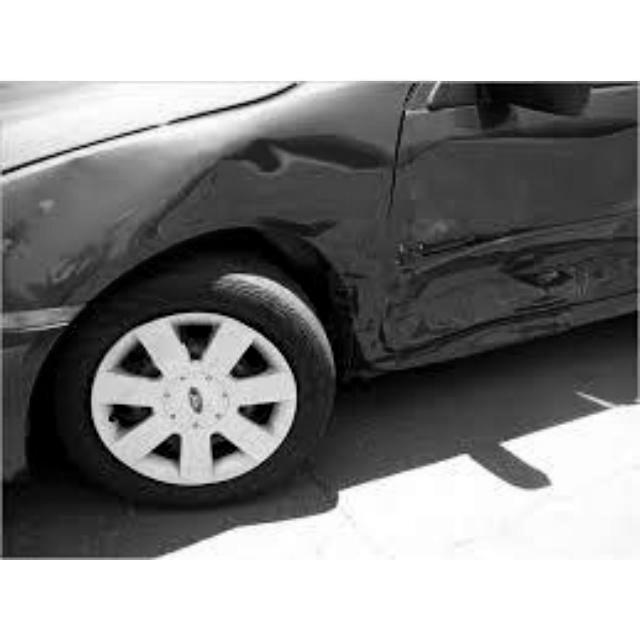Runningboard-Damage: (356, 312, 600, 366)
doorouter-dent: (383, 154, 637, 314)
fender-dent: (97, 100, 388, 300)
